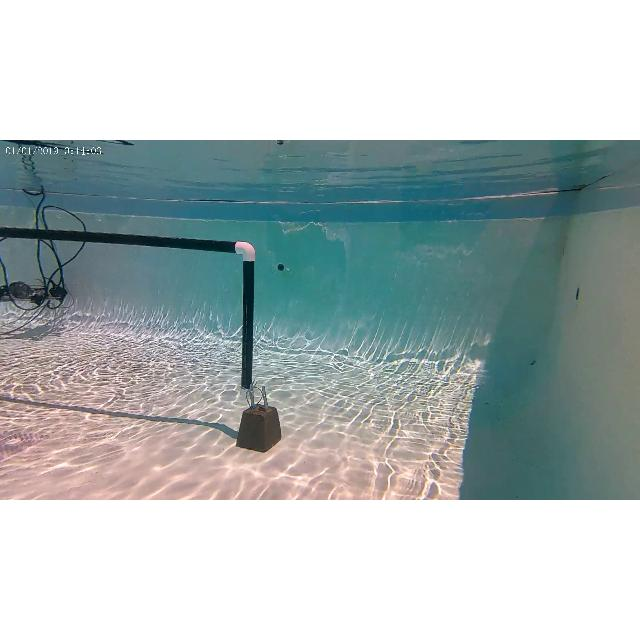prequal gate: (0, 228, 256, 398)
prequal gate leg r: (223, 234, 275, 453)
